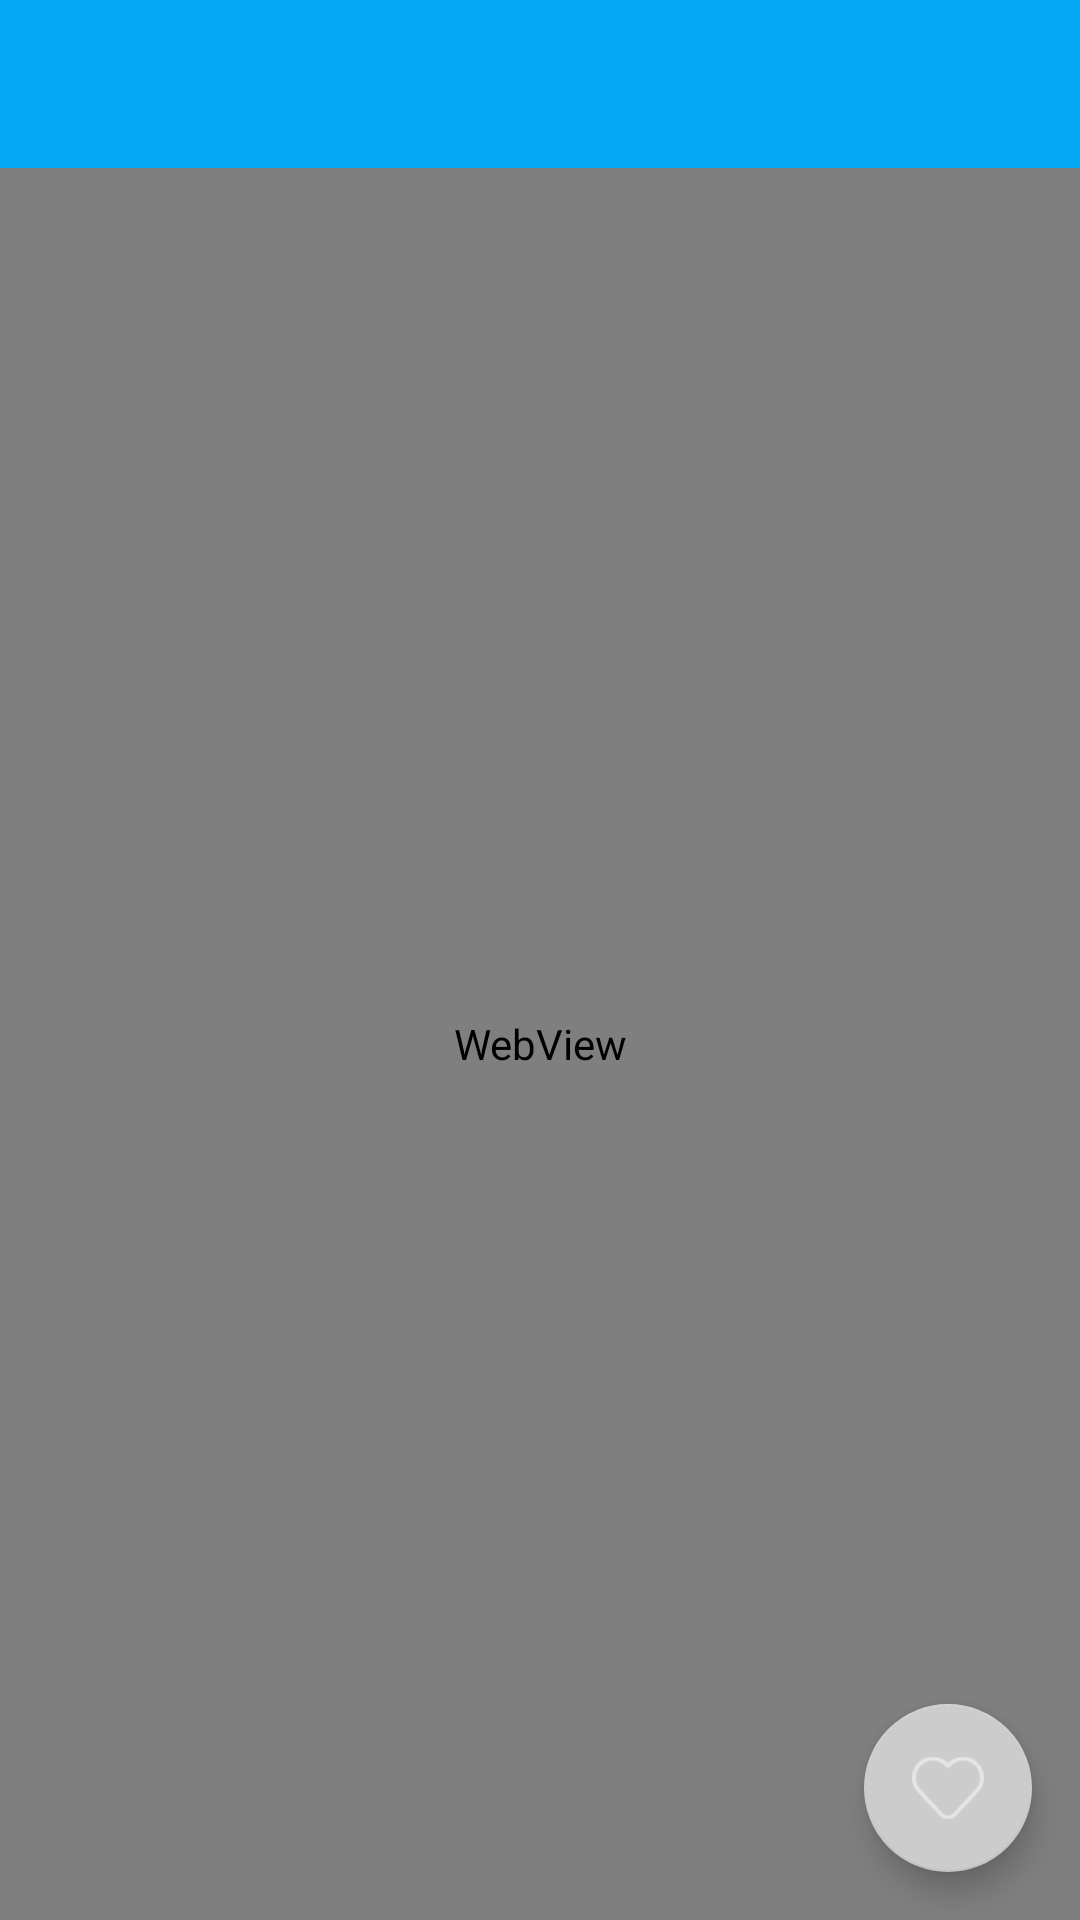

Named icons in this screenshot (1080 × 1920) and their centers, point (x, y):
collect: point (948, 1788)
